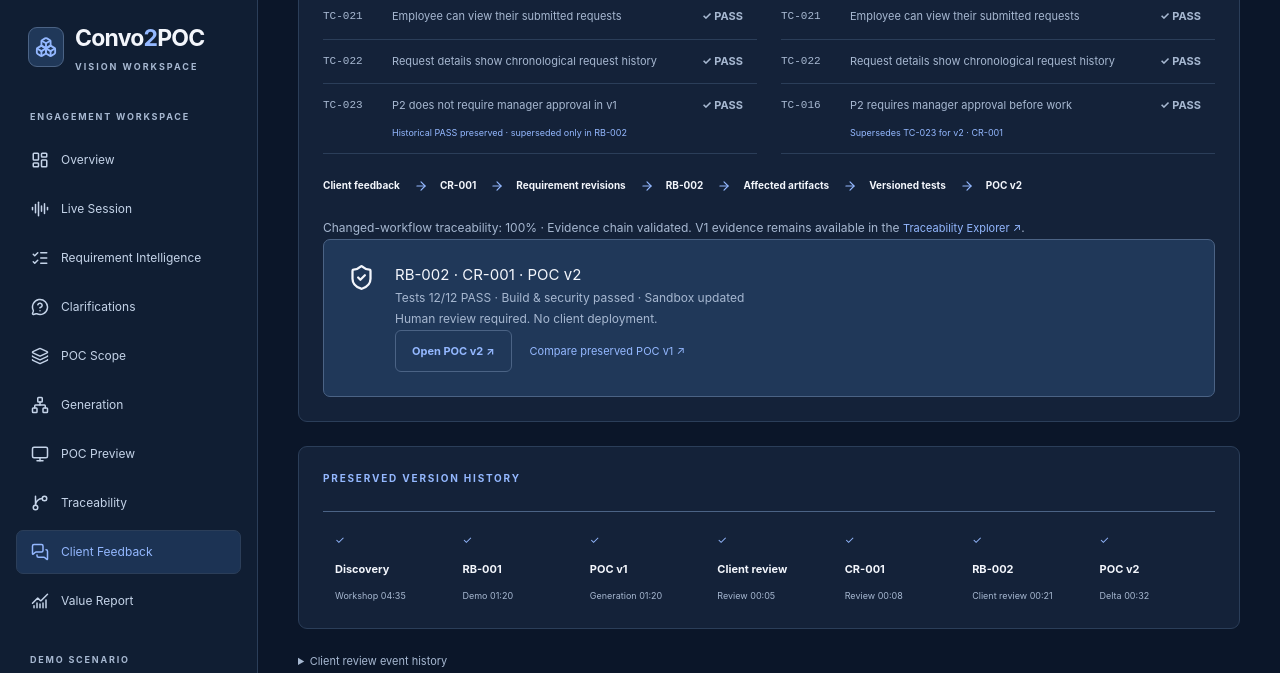
Test: feedback workspace and versioned preview › renders v2 validation, lineage, versioned PASS evidence and correct navigation
(page scrolled)
expect the element named "Version timeline" shows "RB-002": met, box [972, 562, 1014, 576]
Click the link "Open POC v2 ↗": (453, 351) [395, 330, 512, 372]
(page scrolled)
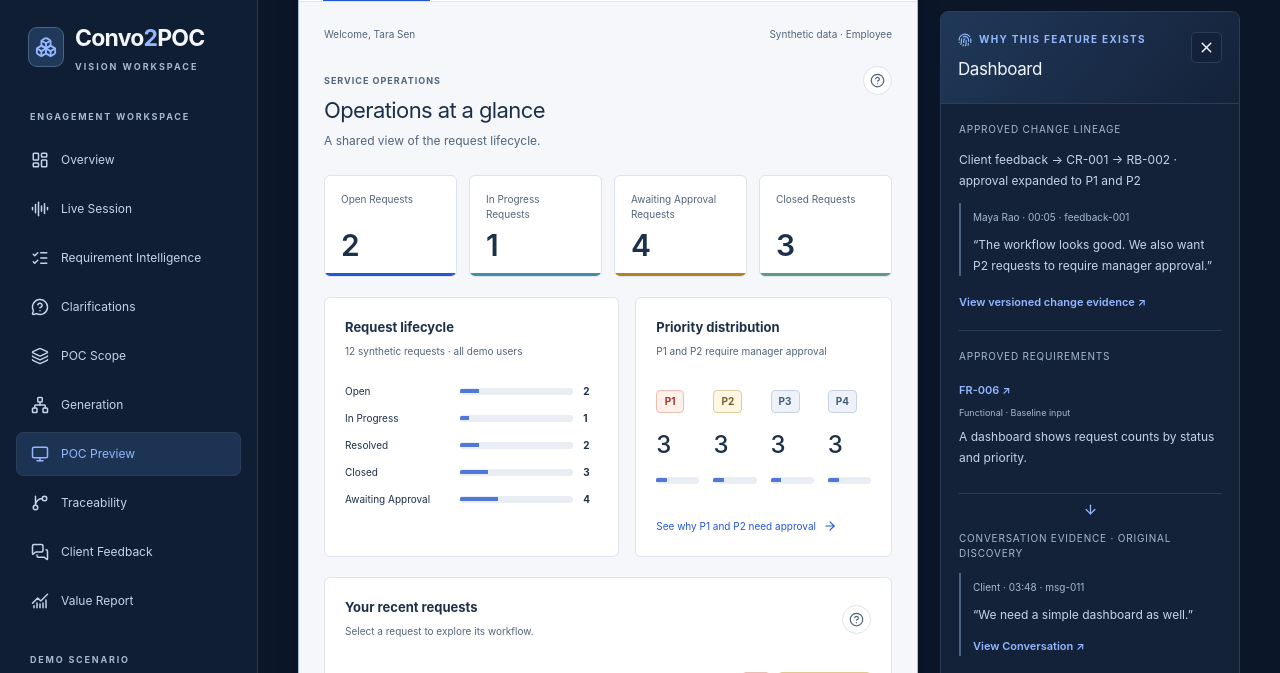
expect the text "P1 and P2 require manager approval" is shown: met, box [656, 345, 827, 357]
